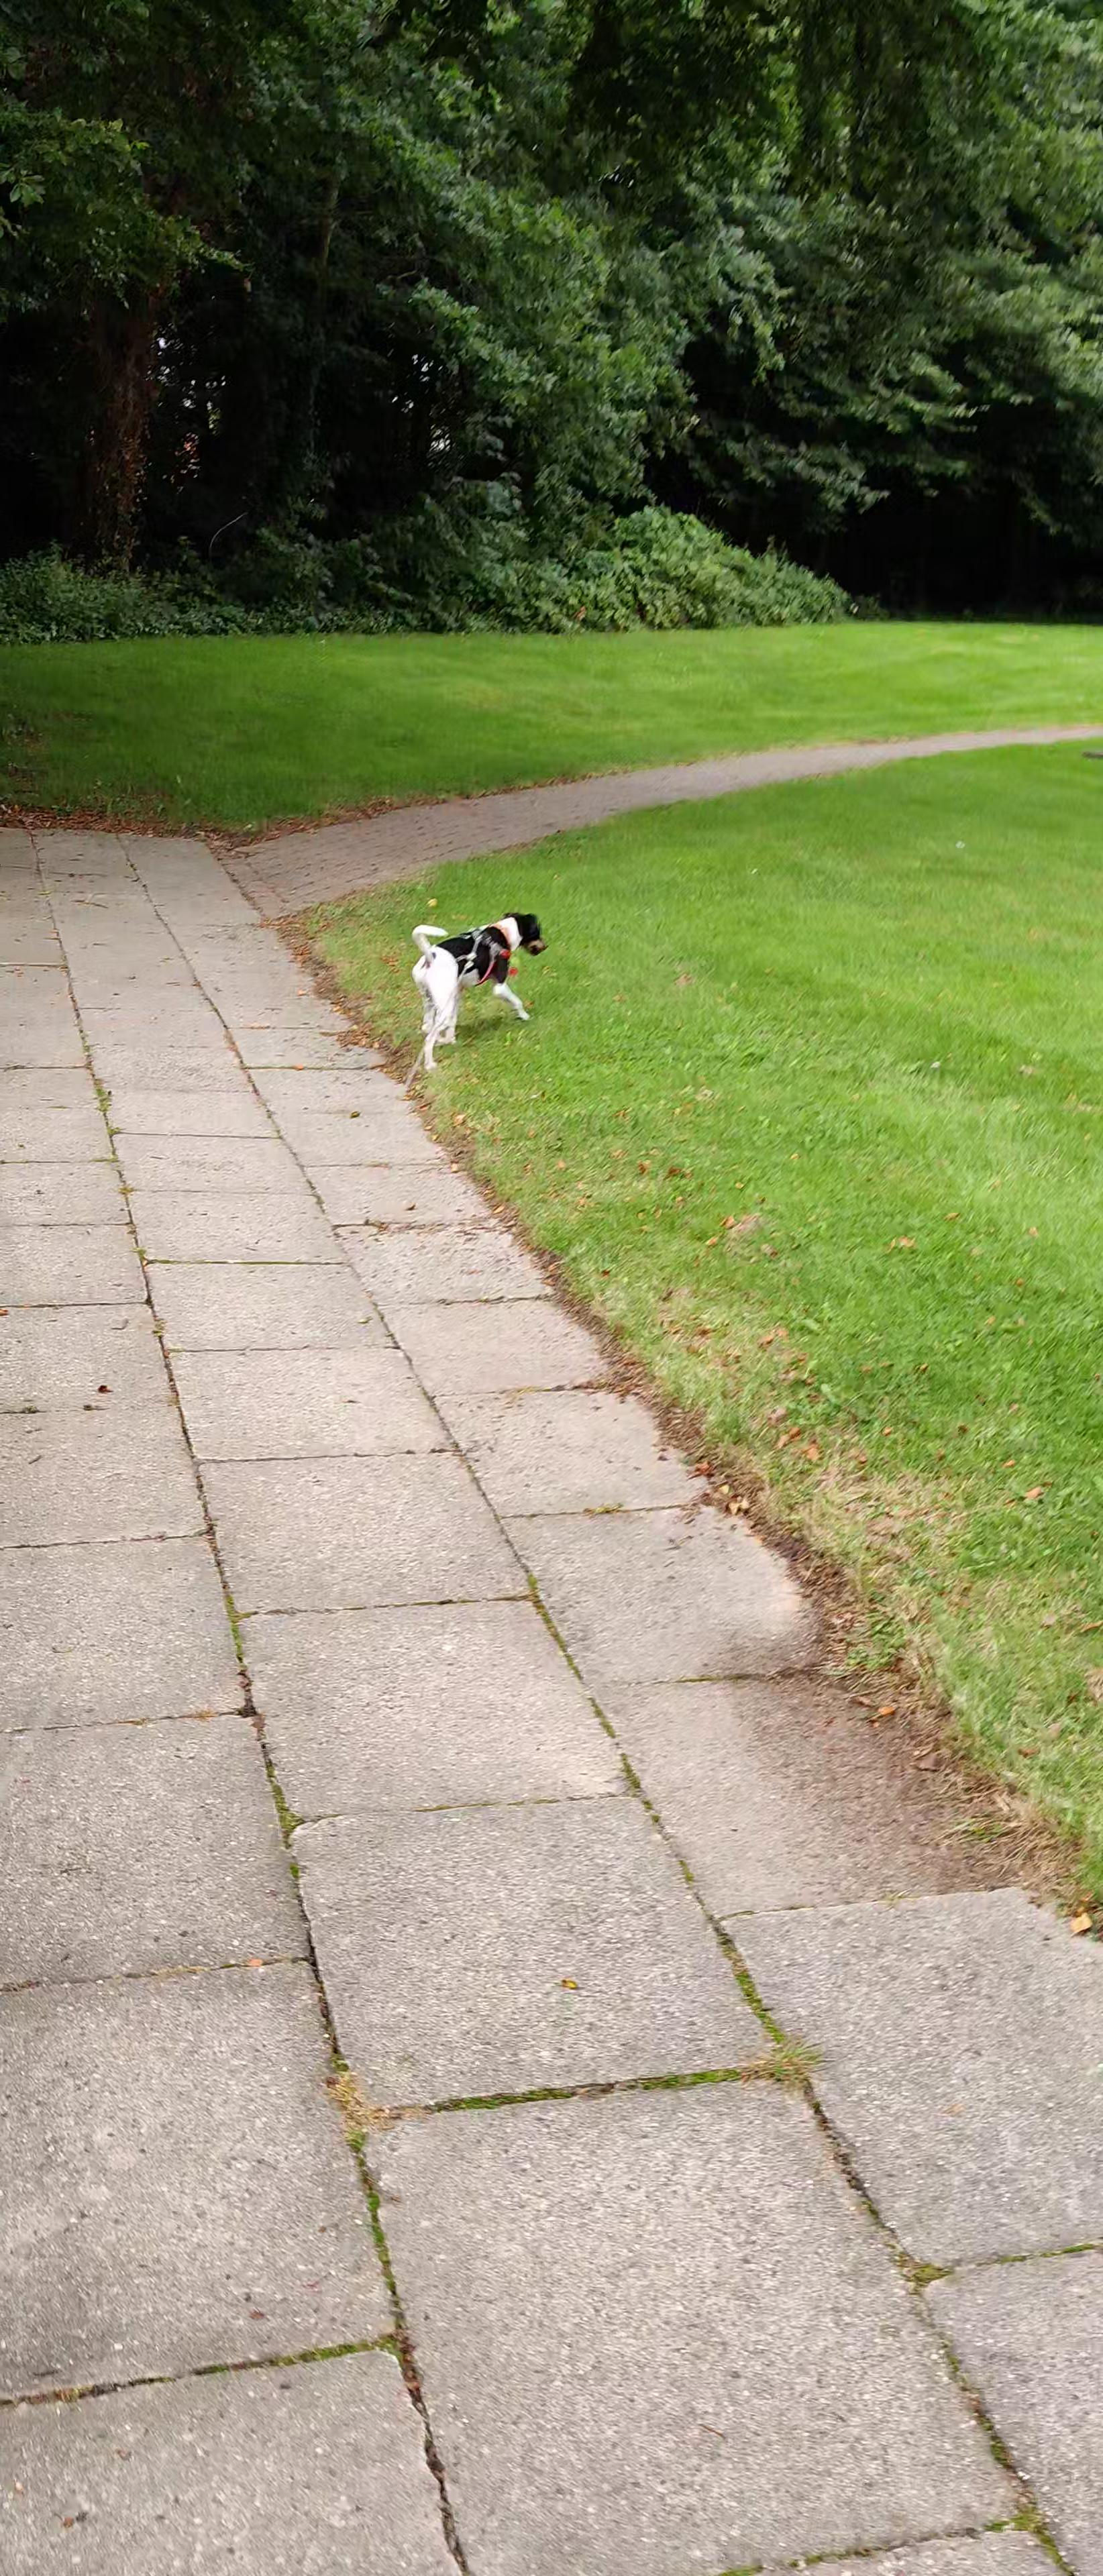Dog: (408, 908, 552, 1073)
